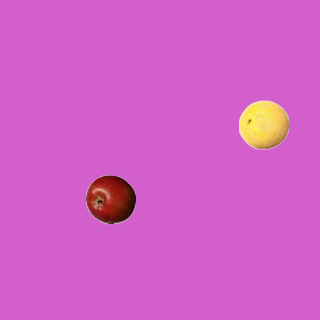Apple Braeburn: (85, 174, 135, 224)
Cantaloupe 1: (238, 99, 288, 149)
